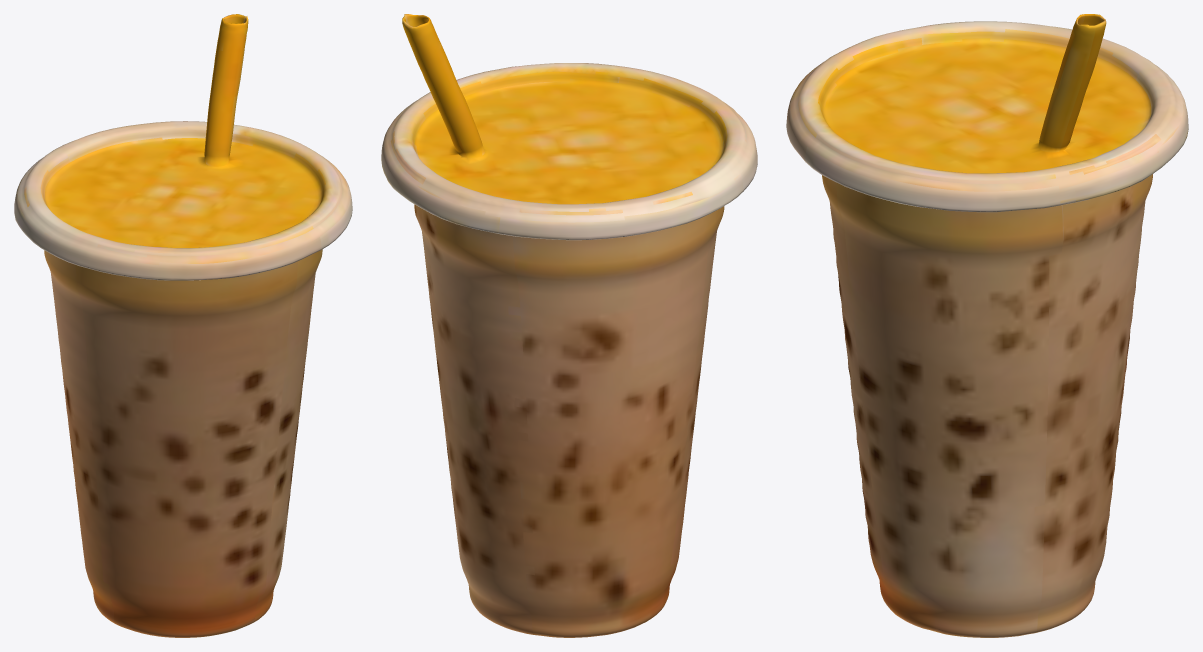
Rendered from Bubble_tea.glb.
3 views of the same model, side by side, from view 1: azimuth 30°, elevation 25°; view 2: azimuth 150°, elevation 25°; view 3: azimuth 270°, elevation 25° (orthographic). The views are drawn at different scales.
Visible parts, largest first — view 1: Obj3d66-20001593-3-869; view 2: Obj3d66-20001593-3-869; view 3: Obj3d66-20001593-3-869.
Part boxes in pixels (<box>): Obj3d66-20001593-3-869: <box>14,14,352,637</box>; Obj3d66-20001593-3-869: <box>381,14,757,637</box>; Obj3d66-20001593-3-869: <box>786,14,1188,637</box>.
Size of the model in its own units: 0.5468 by 0.9424 by 0.5435.
Materials: 1 (1 with a texture image).
